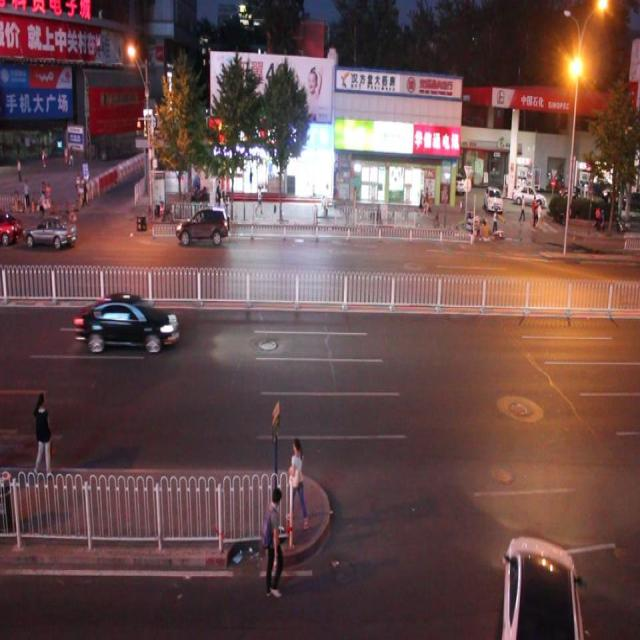car: (497, 531, 583, 640), (74, 291, 178, 353), (177, 205, 230, 247), (24, 212, 78, 250)
